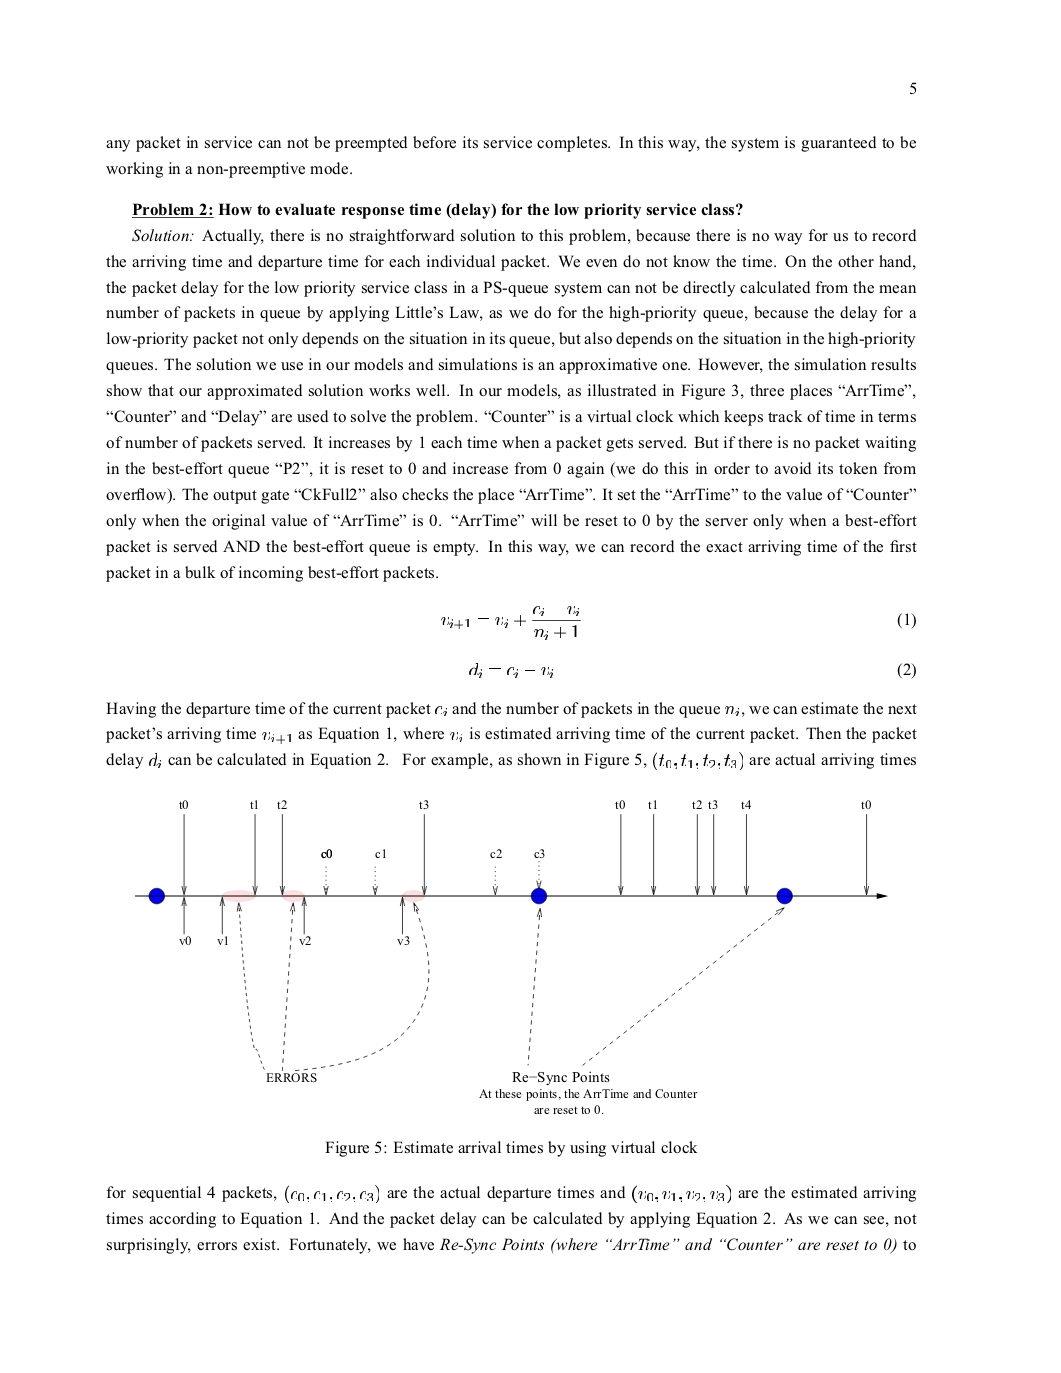figure: (135, 800, 887, 1113)
formula: (441, 605, 915, 640), (469, 662, 915, 679)
